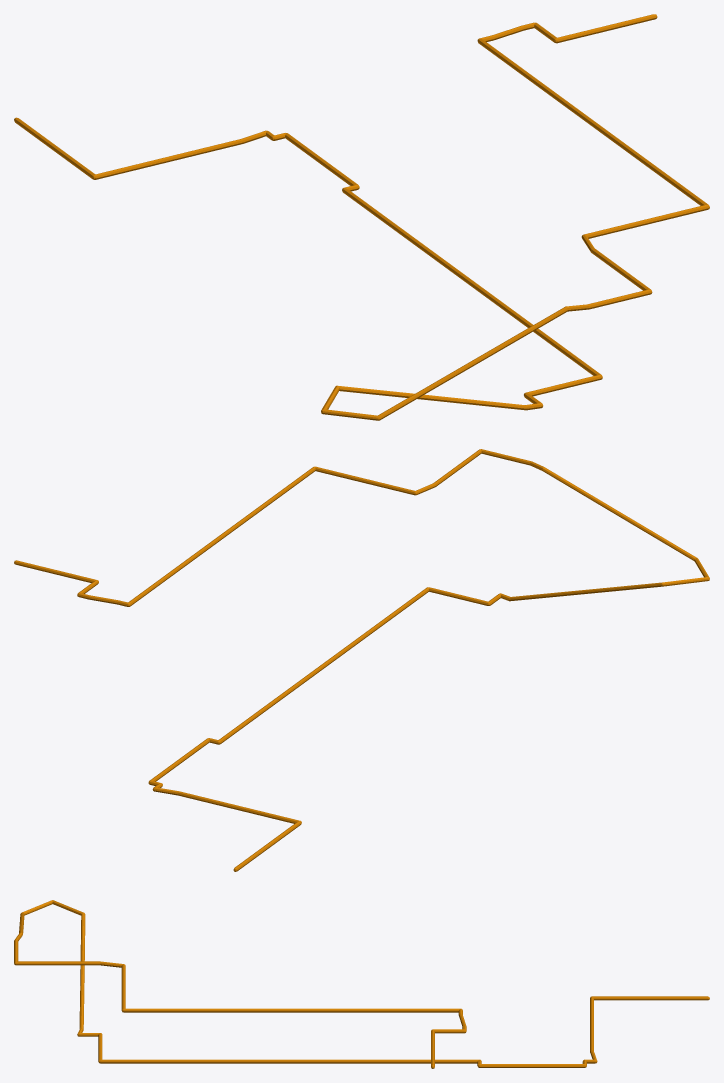
3 views of the same model, one above another, from view 1: azimuth 30°, elevation 25°; view 2: azimuth 150°, elevation 25°; view 3: azimuth 270°, elevation 25° (orthographic). The views are drawn at different scales.
Size of the model in its own units: 2409 by 520 by 3304.
